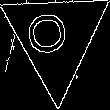O_E: (33, 16, 79, 61)
